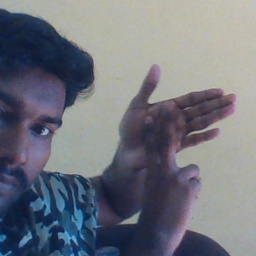N: (111, 64, 242, 205)
